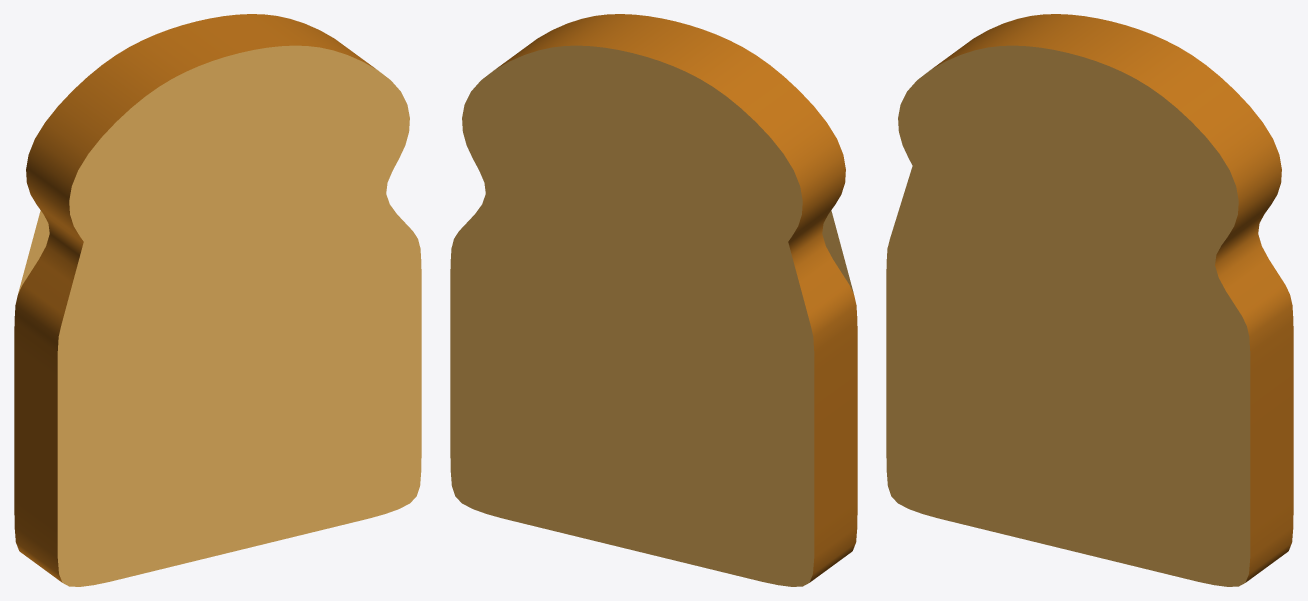
File: Bread7.fbx
3 views of the same model, side by side, from view 1: azimuth 30°, elevation 25°; view 2: azimuth 150°, elevation 25°; view 3: azimuth 330°, elevation 25° (orthographic).
Visible parts, largest first — view 1: Bread7; view 2: Bread7; view 3: Bread7.
Part boxes in pixels (x1,y1,x2,y2): Bread7: (14,14,421,586); Bread7: (450,14,857,586); Bread7: (886,14,1293,586).
Size of the model in its own units: 1.08 by 0.2222 by 1.41.
